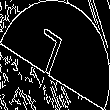L_SW: (36, 26, 74, 84)
